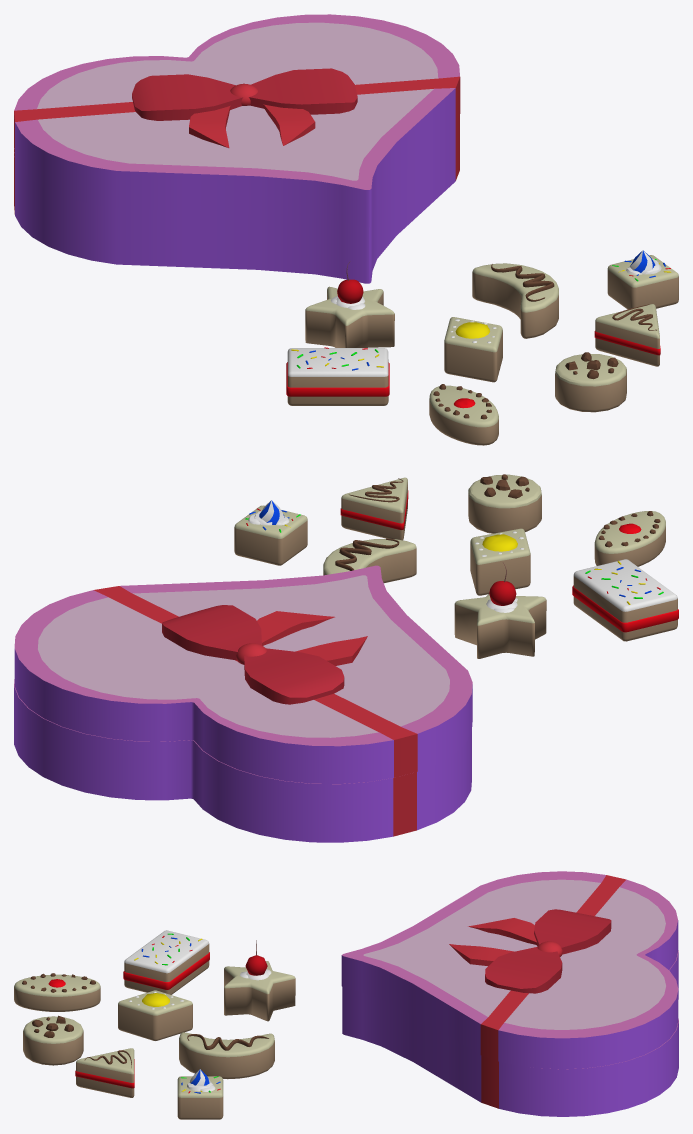
The model's file is Candies.fbx.
3 renders of one model, top to bottom at view 1: azimuth 30°, elevation 25°; view 2: azimuth 150°, elevation 25°; view 3: azimuth 270°, elevation 25°, orthographic. The views are drawn at different scales.
Parts seen in each view (by area): view 1: Heart_top, Heart_bottom, Candy4, Candy3, Candy1, Candy6, Candy7, Candy2, Candy8), Candy5; view 2: Heart_top, Heart_bottom, Candy4, Candy3, Candy6, Candy8), Candy5, Candy2, Candy7, Candy1; view 3: Heart_top, Heart_bottom, Candy4, Candy1, Candy3, Candy2, Candy7, Candy6, Candy5, Candy8).
Boxes of the visible parts, bbox=[...] form: Heart_top: bbox=[14, 14, 460, 227]; Heart_bottom: bbox=[14, 115, 459, 283]; Candy4: bbox=[286, 347, 389, 405]; Candy3: bbox=[305, 261, 394, 347]; Candy1: bbox=[472, 263, 558, 338]; Candy6: bbox=[555, 352, 626, 412]; Candy7: bbox=[429, 384, 498, 445]; Candy2: bbox=[444, 317, 502, 382]; Candy8): bbox=[607, 250, 678, 309]; Candy5: bbox=[594, 304, 660, 366]; Heart_top: bbox=[14, 565, 472, 783]; Heart_bottom: bbox=[14, 679, 471, 842]; Candy4: bbox=[572, 559, 678, 641]; Candy3: bbox=[454, 562, 546, 658]; Candy6: bbox=[468, 474, 541, 533]; Candy8): bbox=[234, 500, 307, 565]; Candy5: bbox=[340, 477, 408, 540]; Candy2: bbox=[470, 528, 530, 595]; Candy7: bbox=[594, 511, 665, 566]; Candy1: bbox=[323, 538, 416, 583]; Heart_top: bbox=[341, 871, 678, 1069]; Heart_bottom: bbox=[342, 950, 678, 1116]; Candy4: bbox=[123, 930, 209, 994]; Candy1: bbox=[179, 1032, 274, 1079]; Candy3: bbox=[224, 940, 295, 1021]; Candy2: bbox=[118, 990, 192, 1040]; Candy7: bbox=[14, 973, 100, 1011]; Candy6: bbox=[23, 1015, 83, 1065]; Candy5: bbox=[75, 1048, 134, 1097]; Candy8): bbox=[177, 1069, 223, 1119].
Bounding box in the file's own units: 221 × 54.71 × 364.
